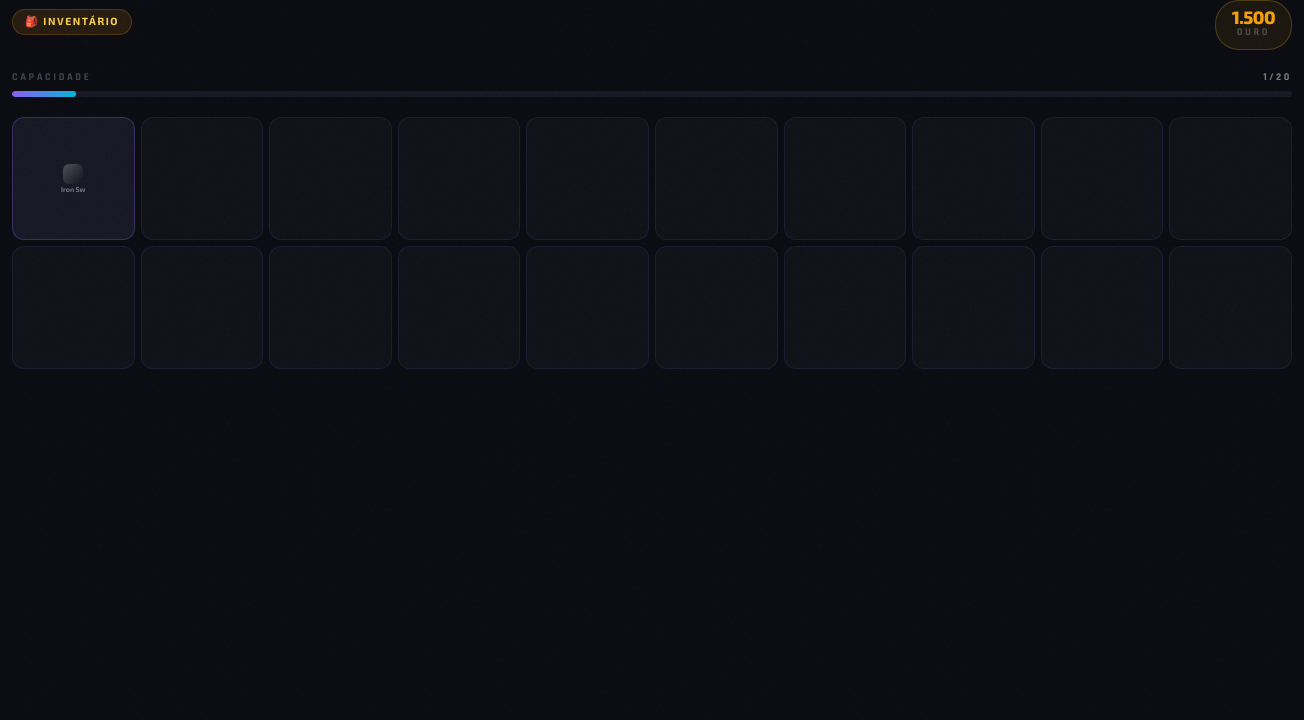
InventoryPanel › fechar painel de detalhe ao clicar ✕
Click the button titled "Iron Sword" at point(73, 179), box [12,117,135,240]
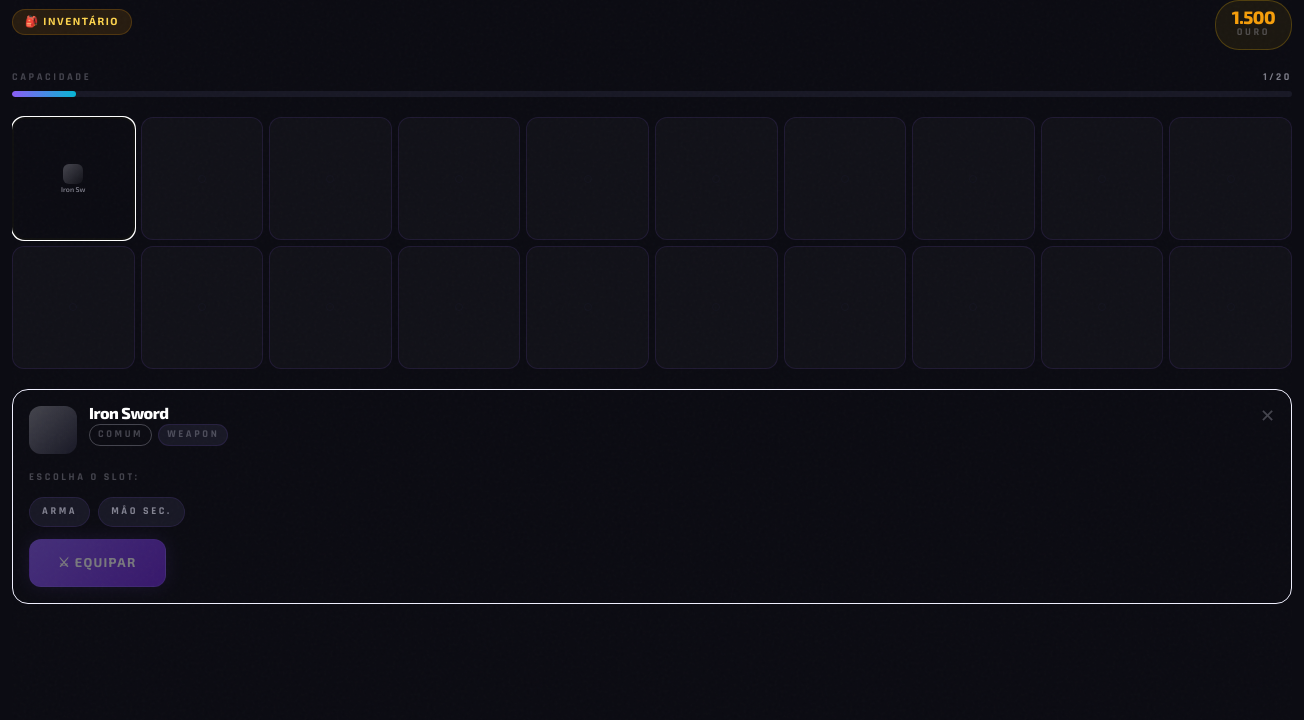
expect the heading "Iron Sword" is shown: met, box [89,403,169,422]
Click the button "✕" at point(1267, 415), box [1260,406,1275,424]
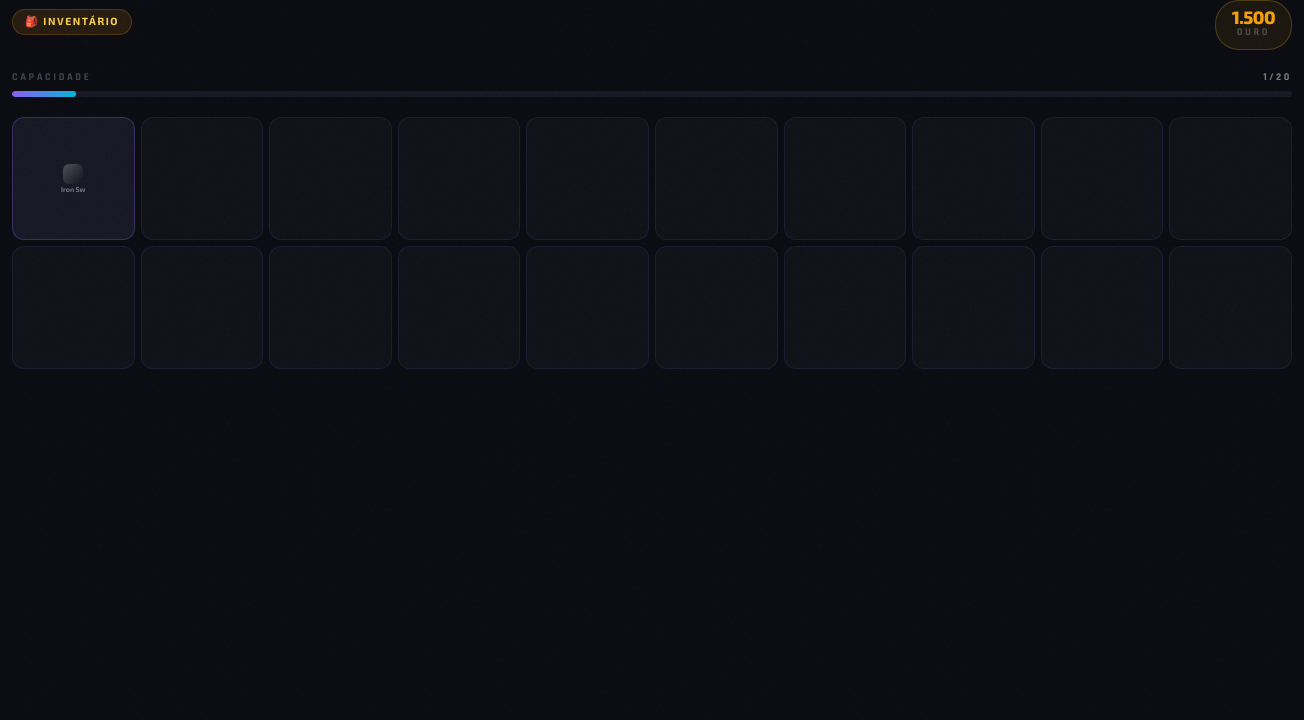
expect the text "weapon" is gone: met
